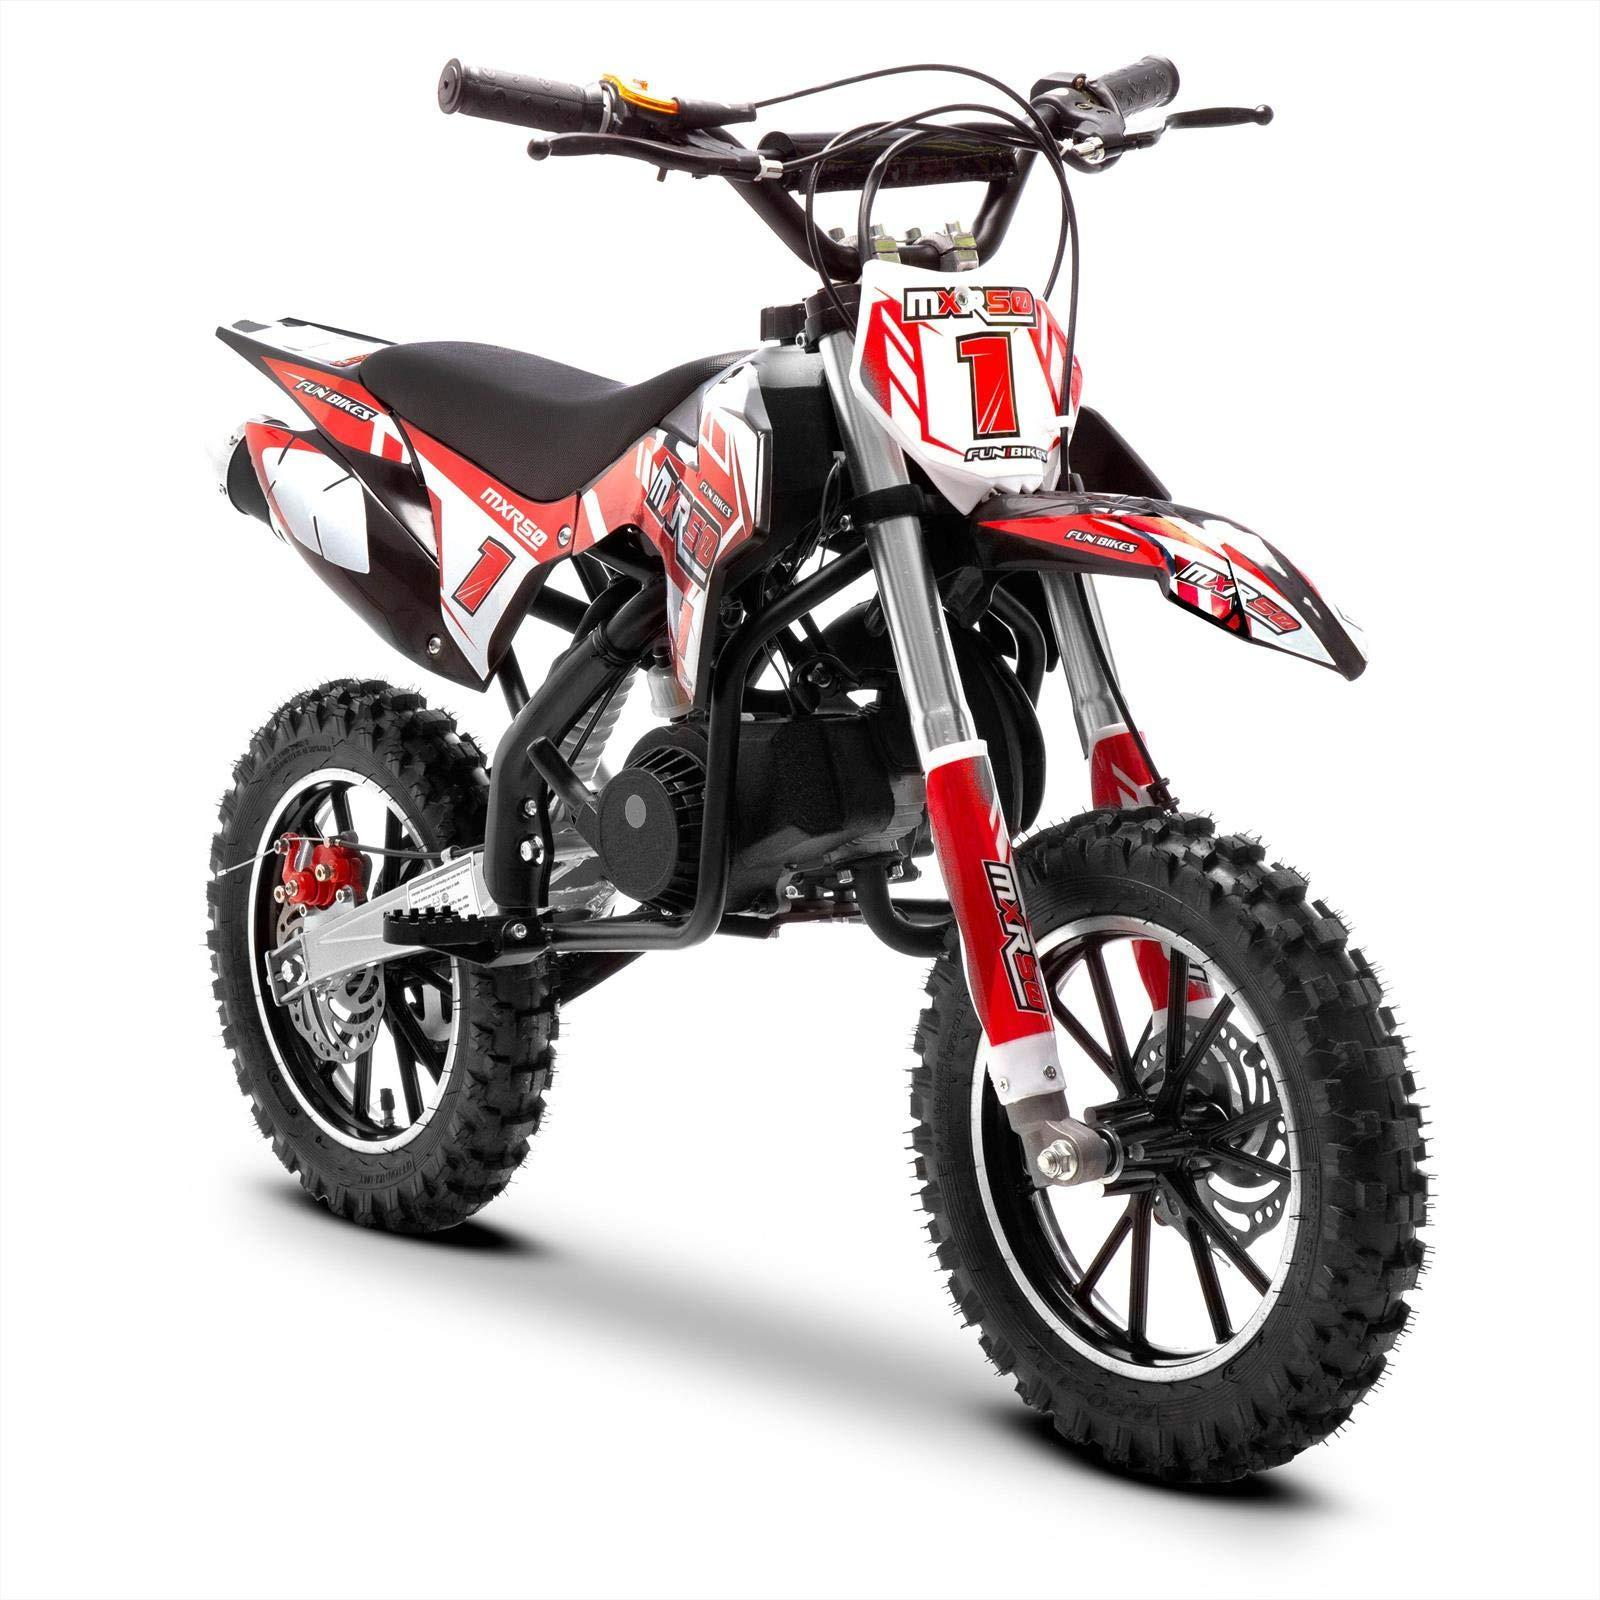motorbike: (204, 50, 1432, 1492)
